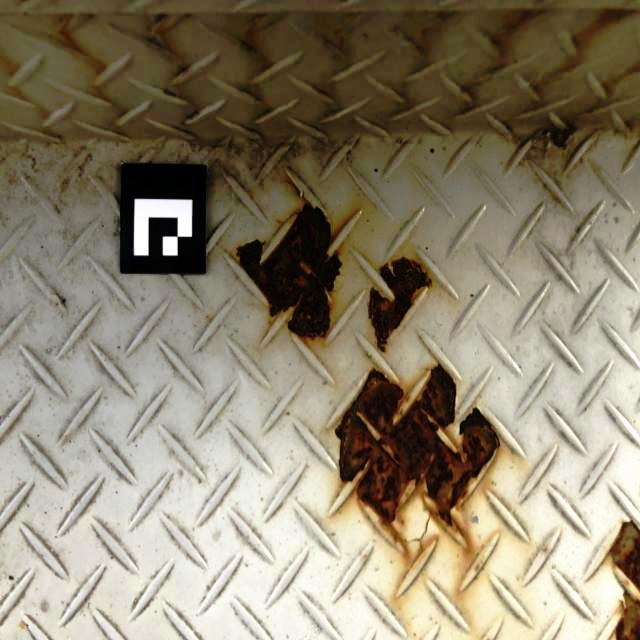Corrosion: (334, 361, 502, 568), (236, 201, 344, 342), (364, 254, 436, 354), (605, 518, 640, 596), (614, 587, 640, 640), (542, 121, 579, 149)
